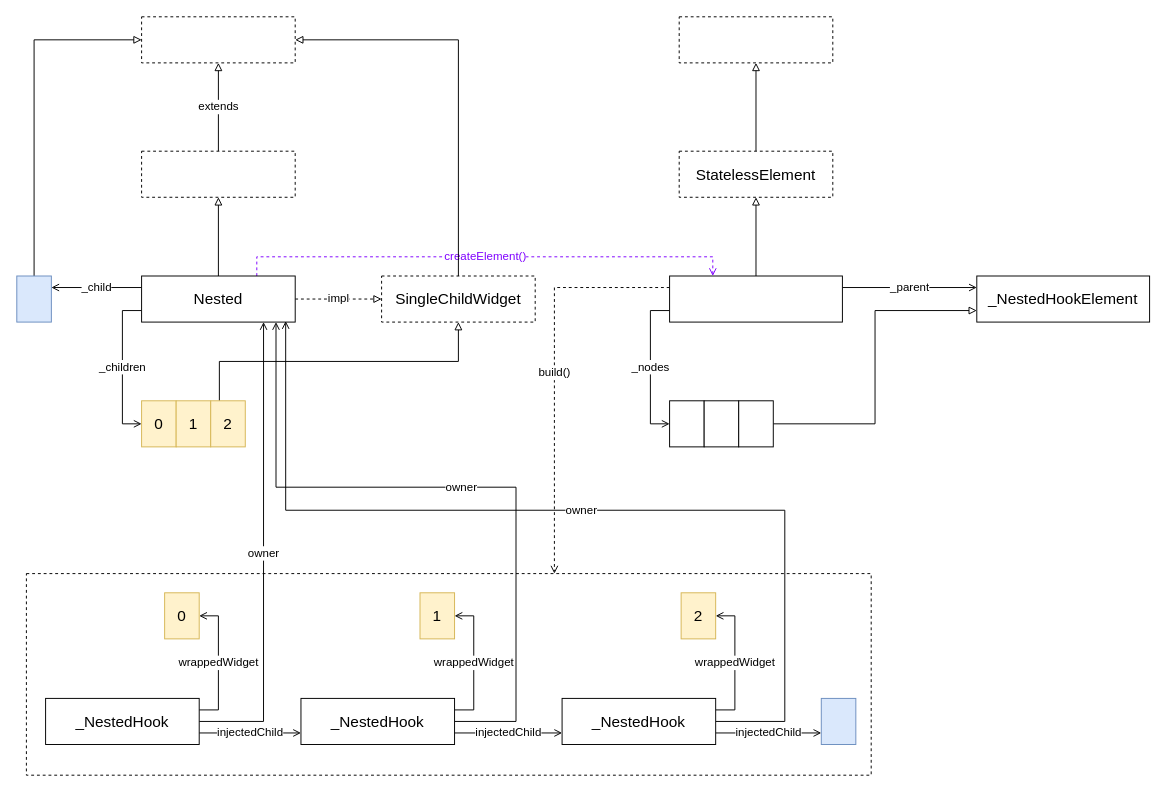
Image size: 1166x792. Some labels were removed from this diagram. The shapes that lost their labels are listed below. From the top down, each one's centre as x and y in pixels, then its label:
the point at 218,39: Widget
the point at 755,39: Element
the point at 218,173: StatelessWidget
the point at 755,298: _NestedElement
